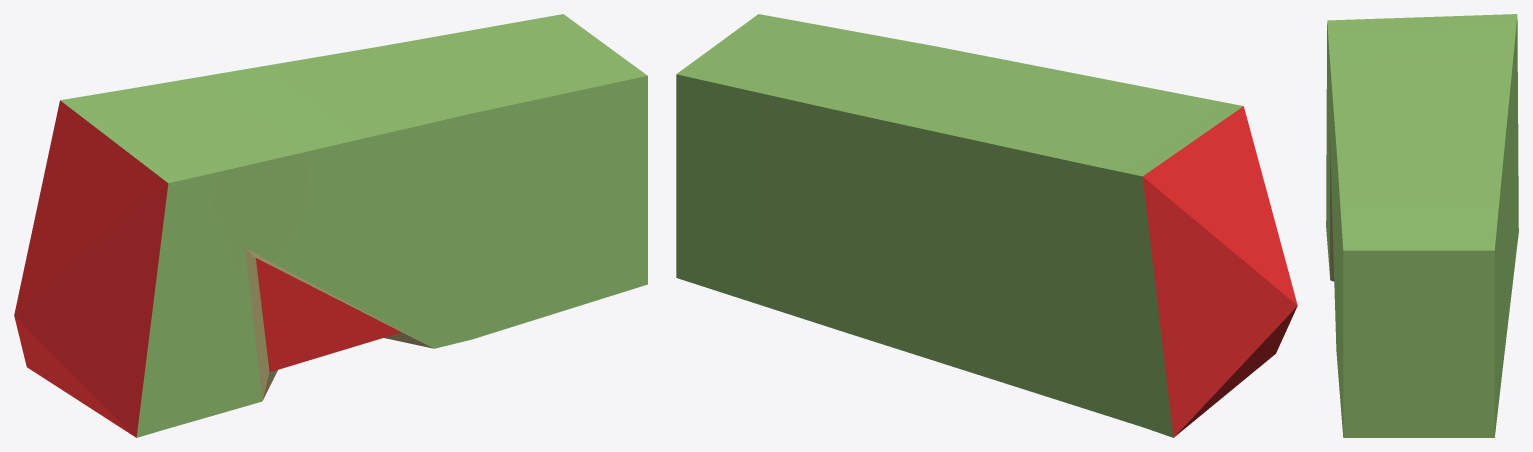
File: BasicZombieLeftForearmGib.glb
3 views of the same model, side by side, from view 1: azimuth 30°, elevation 25°; view 2: azimuth 150°, elevation 25°; view 3: azimuth 270°, elevation 25° (orthographic). The views are drawn at different scales.
Visible parts, largest first — view 1: BasicZombieLeftForearmGib; view 2: BasicZombieLeftForearmGib; view 3: BasicZombieLeftForearmGib.
Boxes of the visible parts, box(x1,y1,x2,y2) form: BasicZombieLeftForearmGib: box(14, 14, 647, 437); BasicZombieLeftForearmGib: box(676, 14, 1297, 437); BasicZombieLeftForearmGib: box(1326, 14, 1518, 437).
Size of the model in its own units: 2.5 by 1.05 by 0.785.
1 material, 1 textured.
